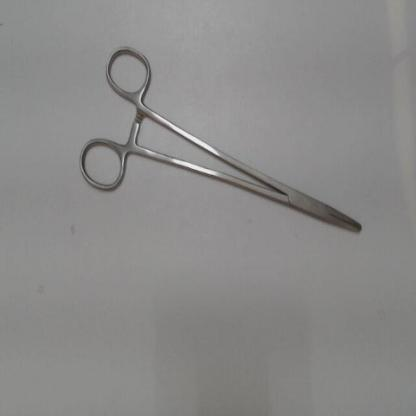8 Mayo Needle Holder: (72, 37, 374, 247)
